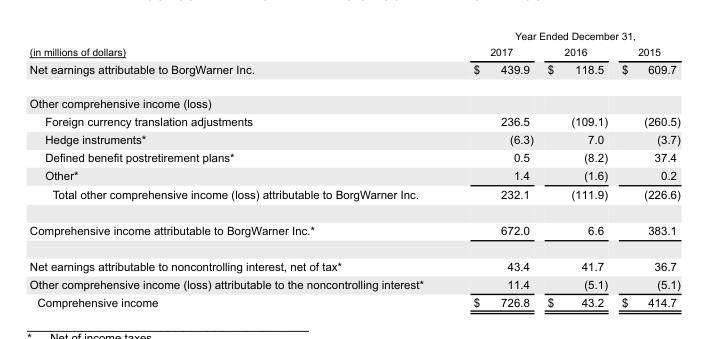table: (28, 29, 679, 308)
table column: (28, 29, 447, 308), (447, 29, 539, 308), (539, 29, 614, 308), (614, 29, 679, 308)
table column header: (28, 29, 679, 59)
table projected row header: (28, 86, 679, 112)
table row: (28, 212, 679, 248), (28, 184, 679, 212), (28, 59, 679, 86), (28, 86, 679, 112), (28, 248, 679, 274), (28, 112, 679, 130), (28, 130, 679, 148), (28, 148, 679, 166), (28, 166, 679, 184), (28, 274, 679, 292), (28, 43, 679, 59), (28, 292, 679, 308), (28, 29, 679, 43)
table spanning cell: (28, 29, 447, 59), (447, 29, 679, 43)
